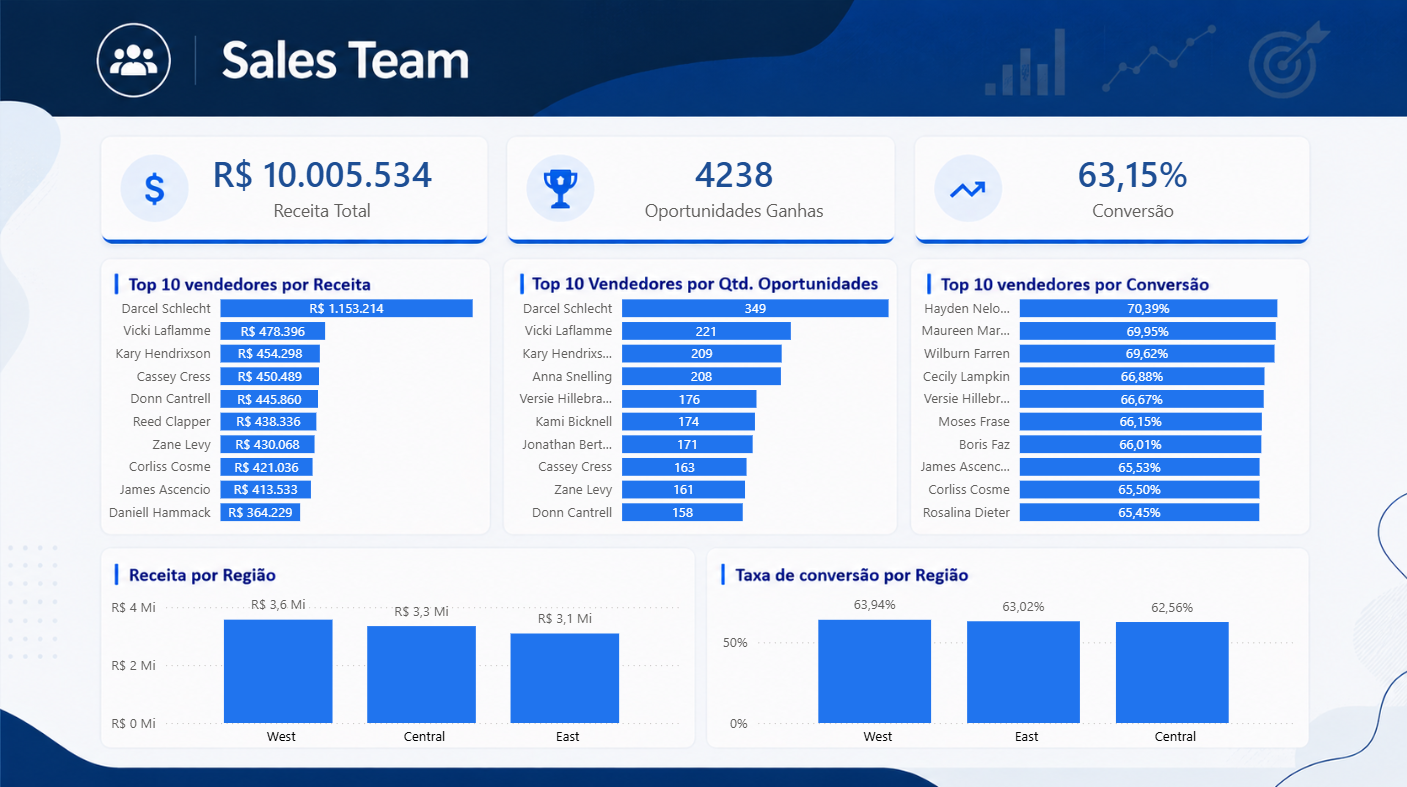

The page's visual inventory and layout, read from the dashboard file:
{"tool":"powerbi","page":{"name":"Sales Team","canvas":[1280,720],"ordinal":1},"visuals":[{"type":"clusteredBarChart","fields":{"Category":["sales_pipeline.sales_agent"],"Y":["sales_pipeline.Receita"]},"box":[85.5,250.9,418.2,236.4],"z":0},{"type":"clusteredBarChart","fields":{"Category":["sales_pipeline.sales_agent"],"Y":["sales_pipeline.Oportunidades Ganhas"]},"box":[454.5,250.9,393.6,236.4],"z":1000},{"type":"columnChart","fields":{"Y":["sales_pipeline.Receita"],"Category":["sales_teams.regional_office"]},"box":[95.5,525.5,530,161.8],"z":2000},{"type":"barChart","fields":{"Y":["sales_pipeline.Conversão"],"Category":["sales_pipeline.sales_agent"]},"box":[819.1,250.9,379.1,236.4],"z":3000},{"type":"cardVisual","fields":{"Data":["sales_pipeline.Receita"]},"box":[141.8,96.4,302.5,143.5],"z":4000},{"type":"cardVisual","fields":{"Data":["sales_pipeline.Oportunidades Ganhas"]},"box":[516.4,96.4,302.5,143.5],"z":5000},{"type":"cardVisual","fields":{"Data":["sales_pipeline.Conversão"]},"box":[879.1,96.4,302.5,143.5],"z":6000},{"type":"columnChart","fields":{"Y":["sales_pipeline.Conversão"],"Category":["sales_teams.regional_office"]},"box":[651.8,525.5,530,161.8],"z":7000}]}

Visuals, with their boxes in screenshot pixels (x1, y1, x2, y2), scaled from the page's 1280x720 canvas onto the 1407x787 screenshot:
clusteredBarChart - sales_pipeline.sales_agent x sales_pipeline.Receita: Rect(94, 274, 554, 533)
clusteredBarChart - sales_pipeline.sales_agent x sales_pipeline.Oportunidades Ganhas: Rect(500, 274, 932, 533)
columnChart - sales_pipeline.Receita x sales_teams.regional_office: Rect(105, 574, 688, 751)
barChart - sales_pipeline.Conversão x sales_pipeline.sales_agent: Rect(900, 274, 1317, 533)
cardVisual - sales_pipeline.Receita: Rect(156, 105, 488, 262)
cardVisual - sales_pipeline.Oportunidades Ganhas: Rect(568, 105, 900, 262)
cardVisual - sales_pipeline.Conversão: Rect(966, 105, 1299, 262)
columnChart - sales_pipeline.Conversão x sales_teams.regional_office: Rect(716, 574, 1299, 751)
